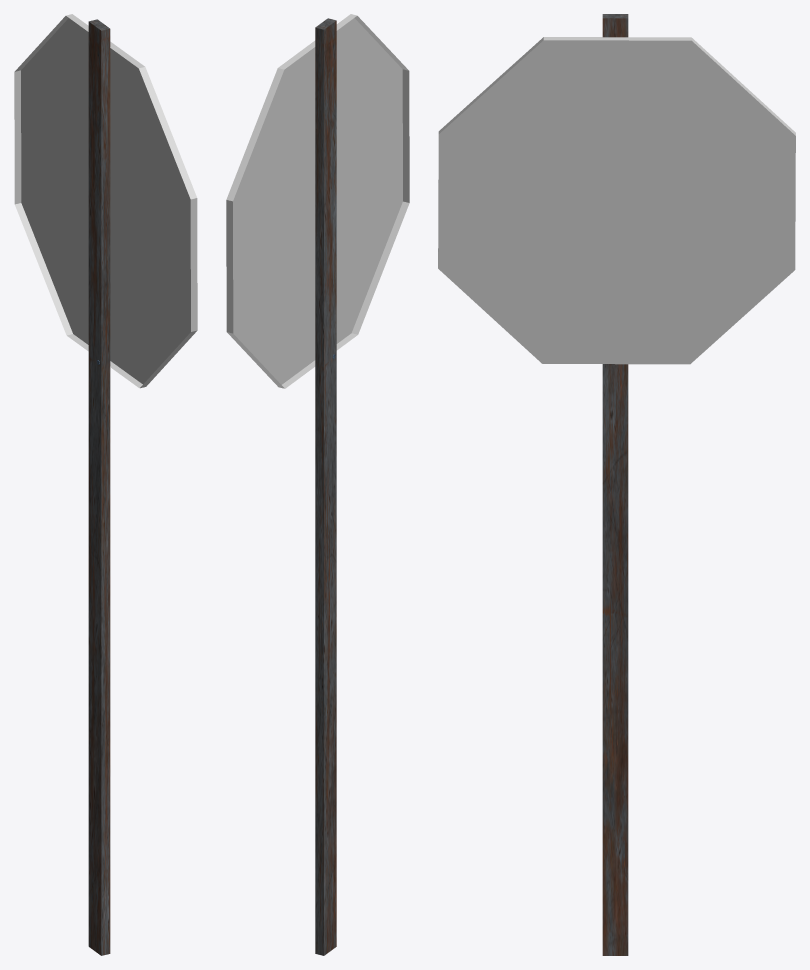
The model's file is STOP.fbx.
The picture shows the model from 3 angles, left to right: view 1: azimuth 30°, elevation 25°; view 2: azimuth 150°, elevation 25°; view 3: azimuth 270°, elevation 25°; orthographic projection.
Visible parts, largest first — view 1: STOP, STICK; view 2: STOP, STICK; view 3: STOP, STICK.
Part boxes in pixels (x1,y1,x2,y2): STOP: (14,14,197,388); STICK: (88,19,110,955); STOP: (226,14,409,388); STICK: (315,18,336,955); STOP: (438,37,795,364); STICK: (602,14,628,955).
Bounding box in the file's own units: 3.15 × 180 × 62.26.
